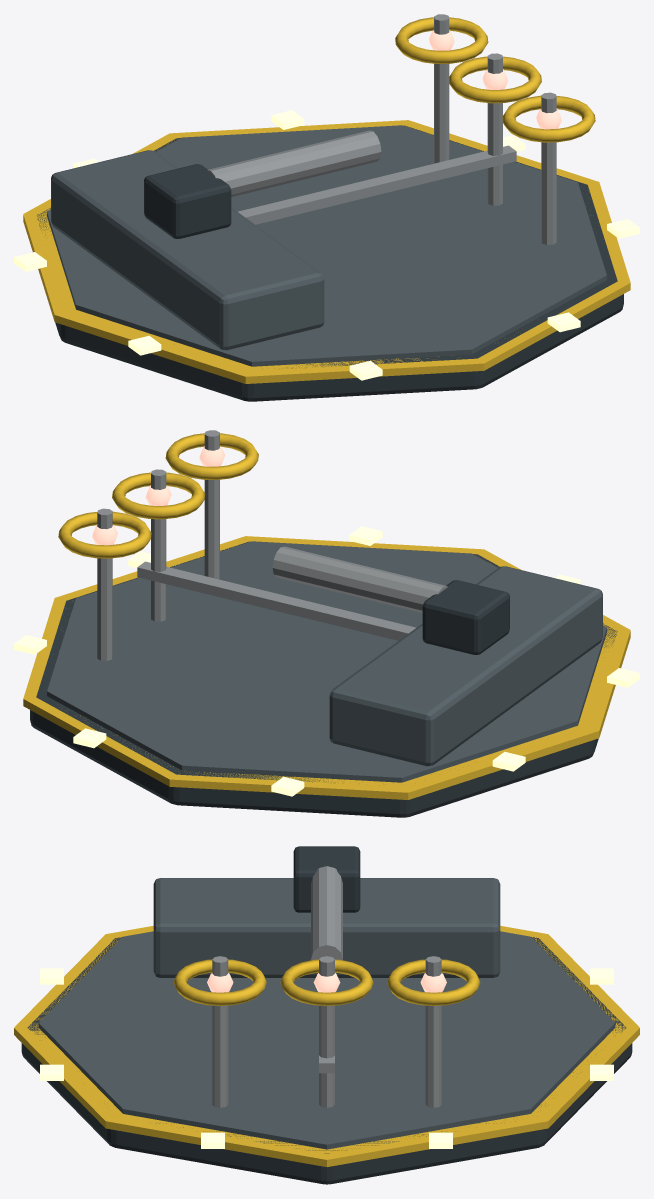
Rendered from harpoon_yard.fbx.
3 renders of one model, top to bottom at view 1: azimuth 30°, elevation 25°; view 2: azimuth 150°, elevation 25°; view 3: azimuth 270°, elevation 25°, orthographic.
Parts seen in each view (by area): view 1: harpoon_yard, ANIM_spin_z_10__mount; view 2: harpoon_yard, ANIM_spin_z_10__mount; view 3: harpoon_yard, ANIM_spin_z_10__mount.
Boxes of the visible parts, bbox=[...] form: harpoon_yard: bbox=[14, 14, 639, 401]; ANIM_spin_z_10__mount: bbox=[144, 164, 231, 238]; harpoon_yard: bbox=[14, 430, 639, 817]; ANIM_spin_z_10__mount: bbox=[422, 580, 509, 654]; harpoon_yard: bbox=[14, 866, 639, 1184]; ANIM_spin_z_10__mount: bbox=[293, 846, 360, 912].
Bounding box in the file's own units: 4.69 × 1.49 × 4.69.
